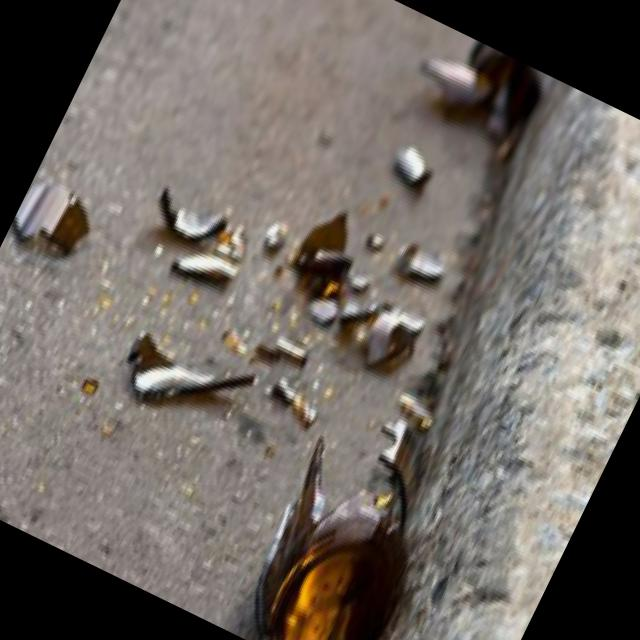PecahanKaca: (226, 367, 485, 640), (111, 314, 262, 444), (8, 167, 106, 267)
